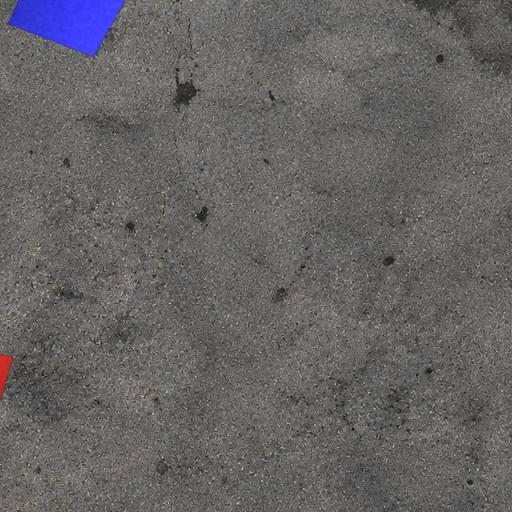BLUE_SQUARE: (7, 0, 139, 58)
